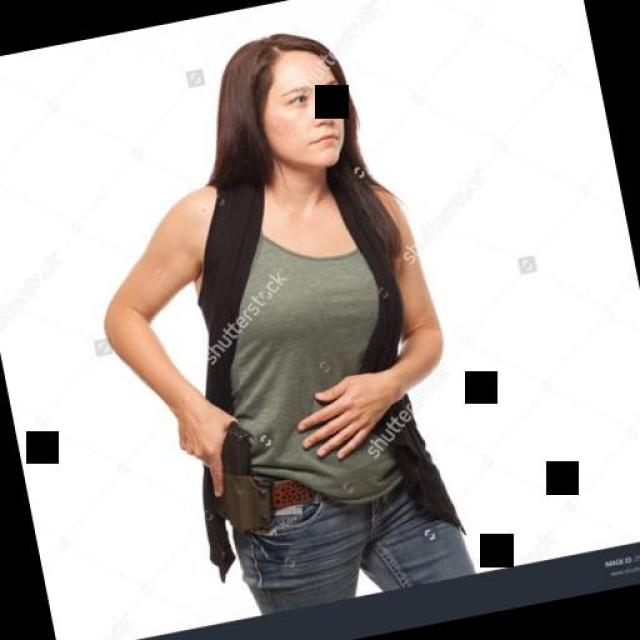gun: (189, 414, 271, 536)
